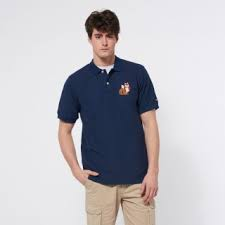S_polo shirt: (53, 57, 167, 181)
